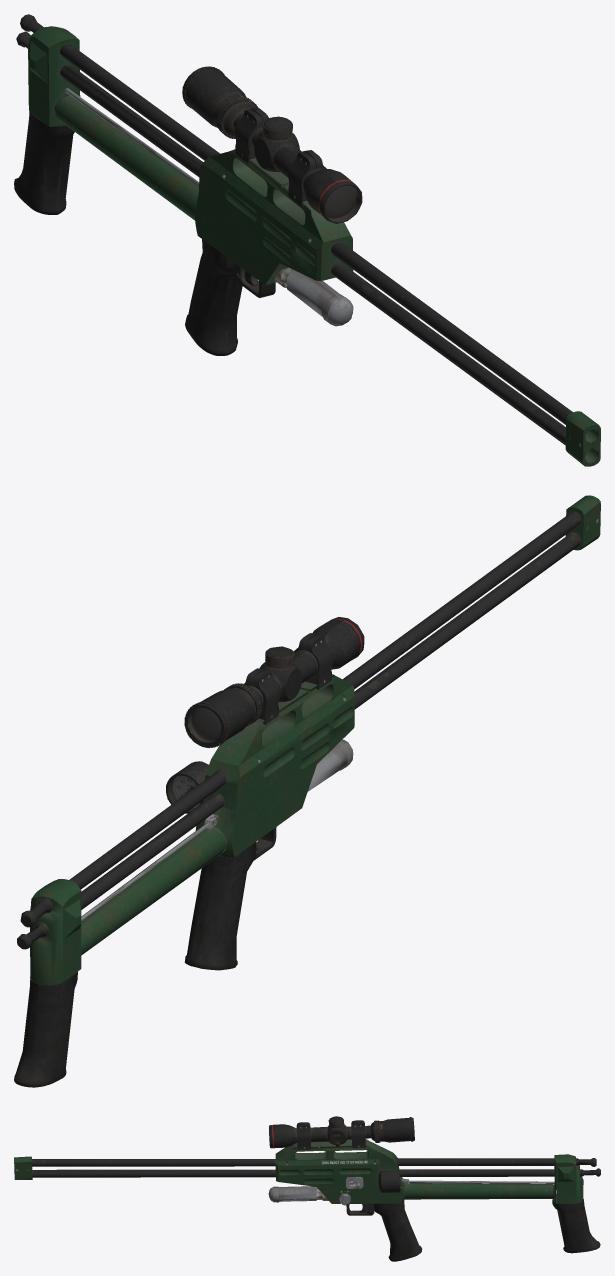
Rendered from dartgun.glb.
The picture shows the model from 3 angles, top to bottom: view 1: azimuth 30°, elevation 25°; view 2: azimuth 150°, elevation 25°; view 3: azimuth 270°, elevation 25°; orthographic projection. The views are drawn at different scales.
Visible parts, largest first — view 1: PressureMeter_lowPoly_blinn4_0; view 2: PressureMeter_lowPoly_blinn4_0; view 3: PressureMeter_lowPoly_blinn4_0.
Boxes of the visible parts, x1,y1,x2,y2 form: PressureMeter_lowPoly_blinn4_0: (14,14,600,466); PressureMeter_lowPoly_blinn4_0: (14,495,600,1087); PressureMeter_lowPoly_blinn4_0: (14,1116,600,1261).
Size of the model in its own units: 0.0422 by 0.1468 by 0.5544.
Materials: 3 (3 with a texture image).
